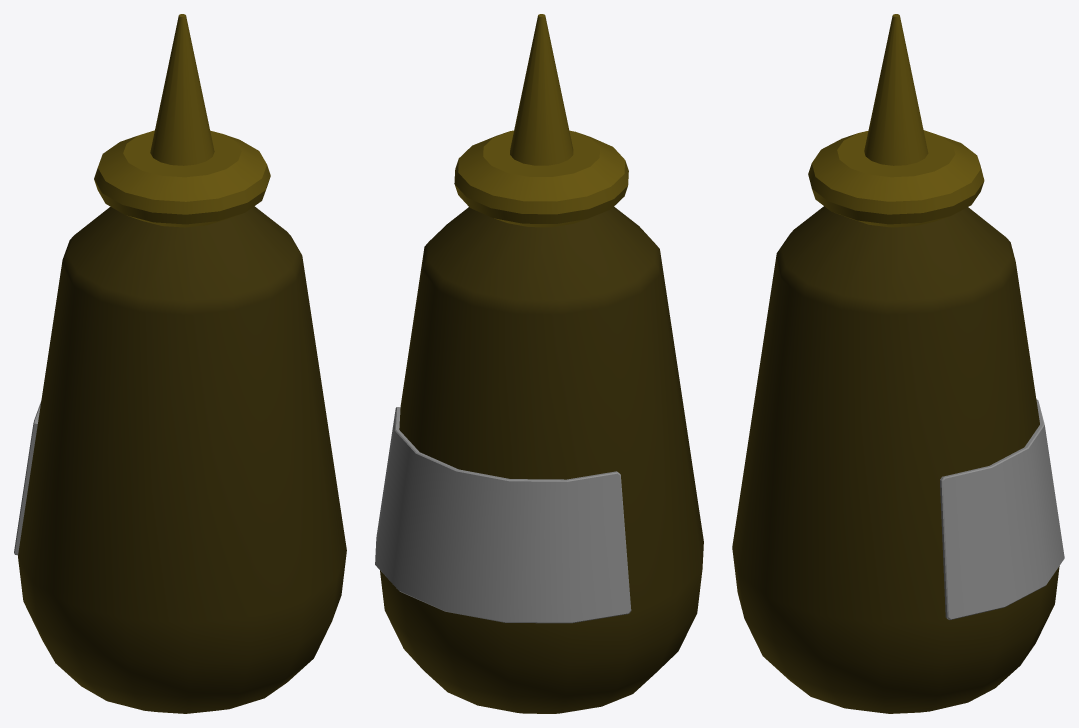
Rendered from Mustard.FBX.
3 renders of one model, left to right at view 1: azimuth 30°, elevation 25°; view 2: azimuth 150°, elevation 25°; view 3: azimuth 270°, elevation 25°, orthographic.
Parts seen in each view (by area): view 1: Mustard; view 2: Mustard; view 3: Mustard.
Boxes of the visible parts, bbox=[...] form: Mustard: bbox=[14, 14, 346, 713]; Mustard: bbox=[375, 14, 703, 713]; Mustard: bbox=[732, 14, 1064, 713].
Bounding box in the file's own units: 526 × 533 × 1189.
